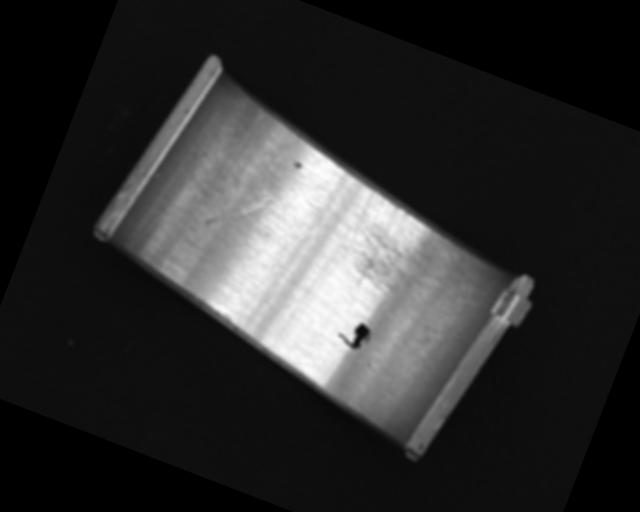blot: (334, 315, 374, 353)
bruise: (289, 158, 303, 172)
nick: (232, 211, 320, 344), (124, 164, 203, 269), (204, 178, 273, 244), (258, 142, 291, 201)
scratch: (326, 184, 479, 318)
